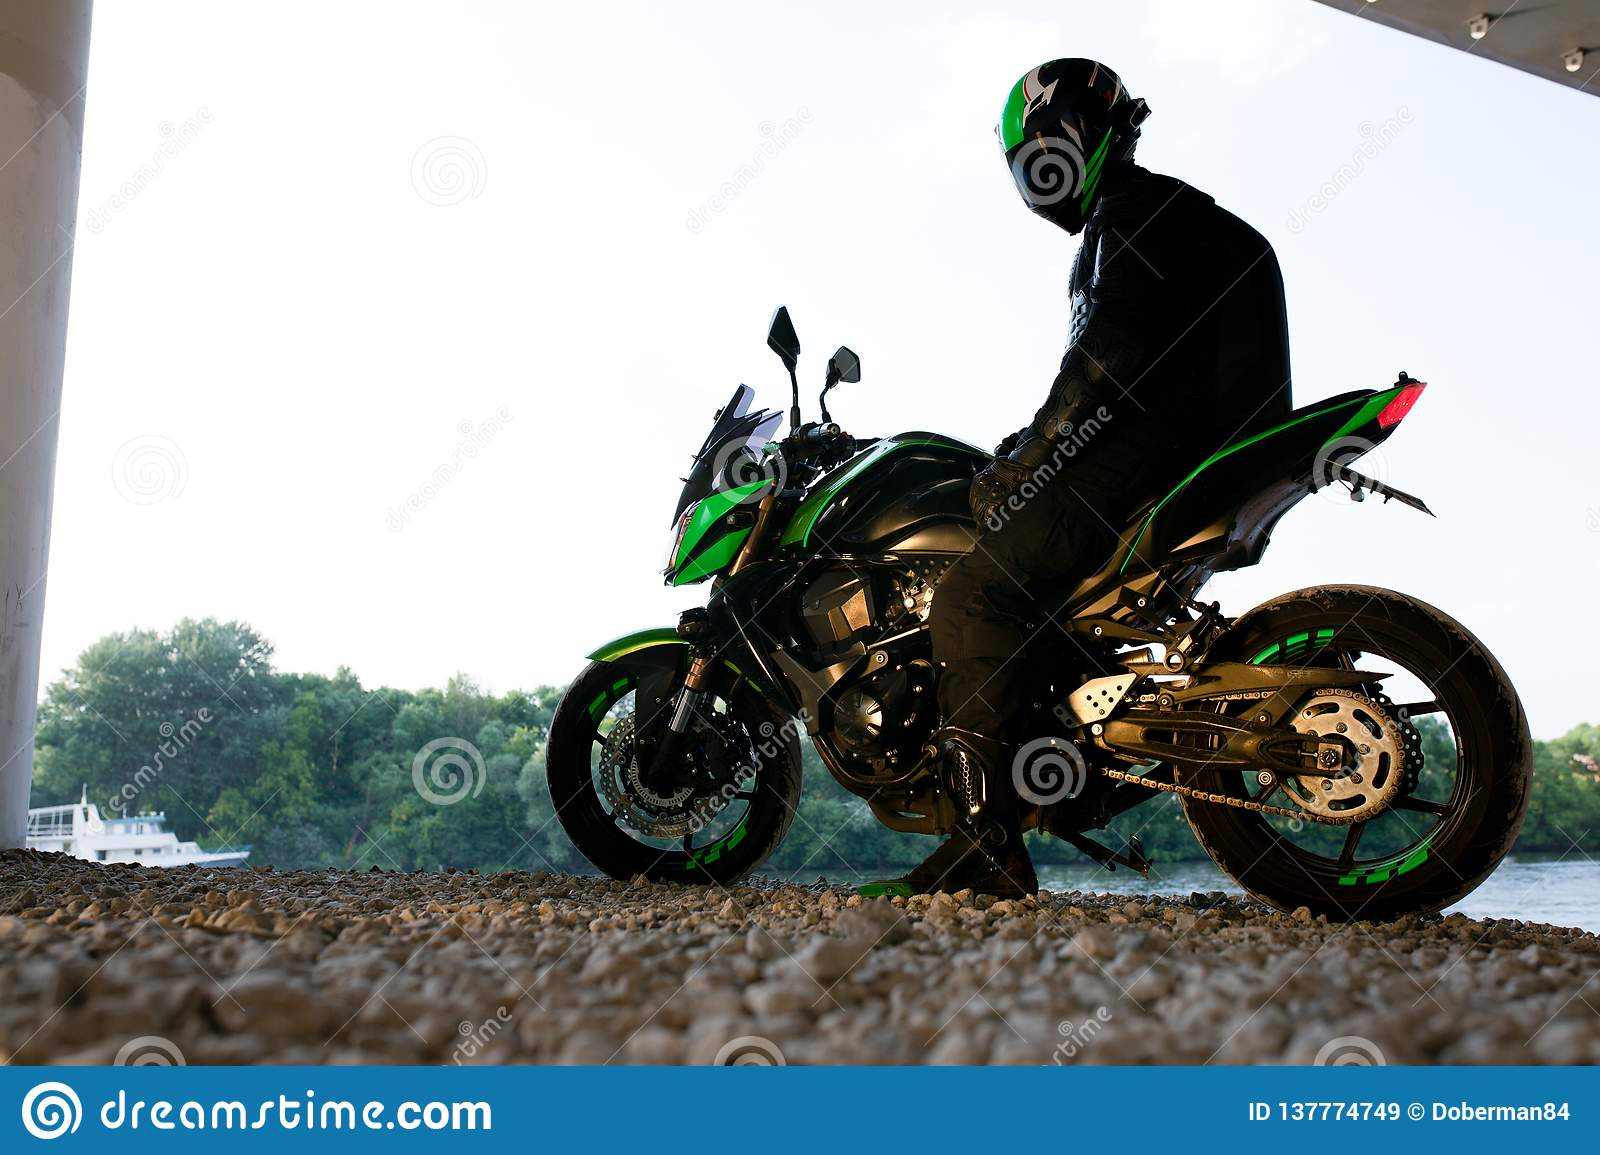helmet: (994, 40, 1147, 211)
